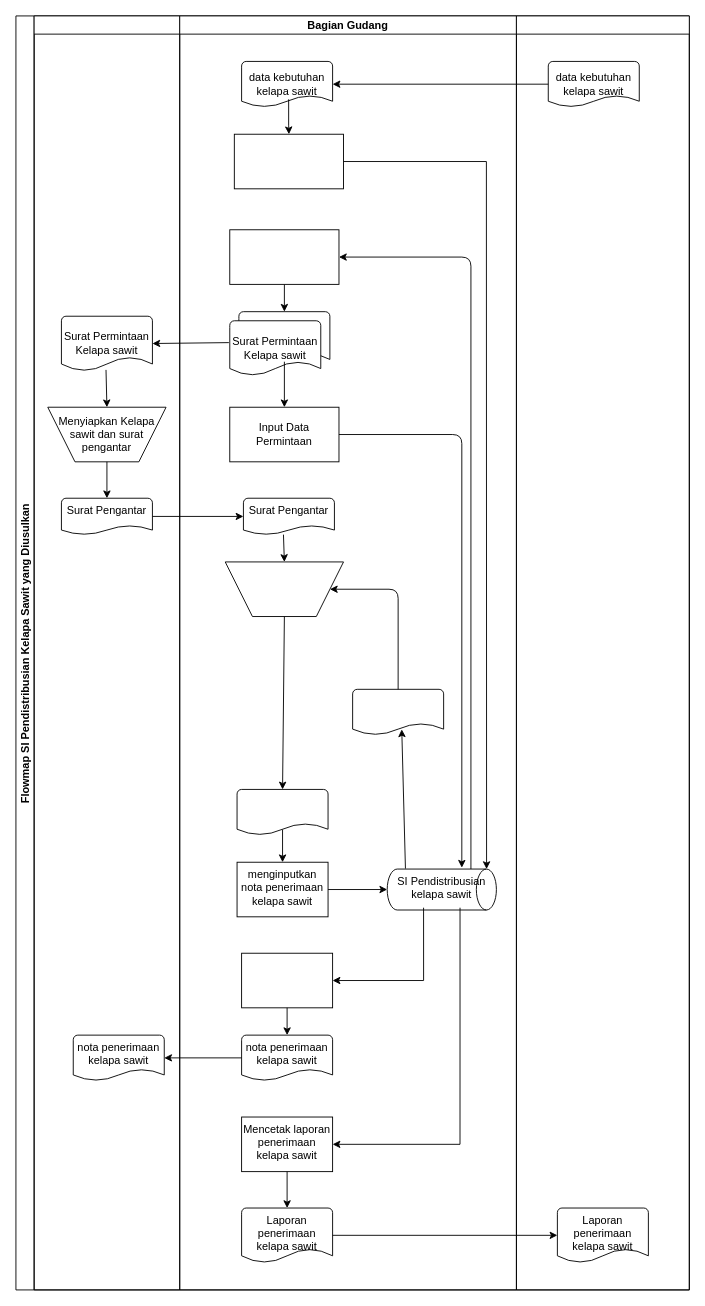
This 705x1306 diagram has some shape labels left out. Each missing label, with the box of its shape:
Data Berat kelapa sawit tervalidasi: (236, 789, 328, 835)
Data Permintaan Kelapa Sawit: (352, 688, 444, 735)
Koperasi: (33, 15, 180, 1290)
Manager: (516, 15, 689, 1290)
Membuat surat permintaan kelapa sawit: (229, 229, 339, 284)
Memvalidasi Berat Kelapa sawit: (224, 561, 344, 617)
Mencetak nota penerimaan kelapa sawit: (241, 952, 333, 1008)
Mengecek Stok Kelapa Sawit: (233, 133, 344, 189)
